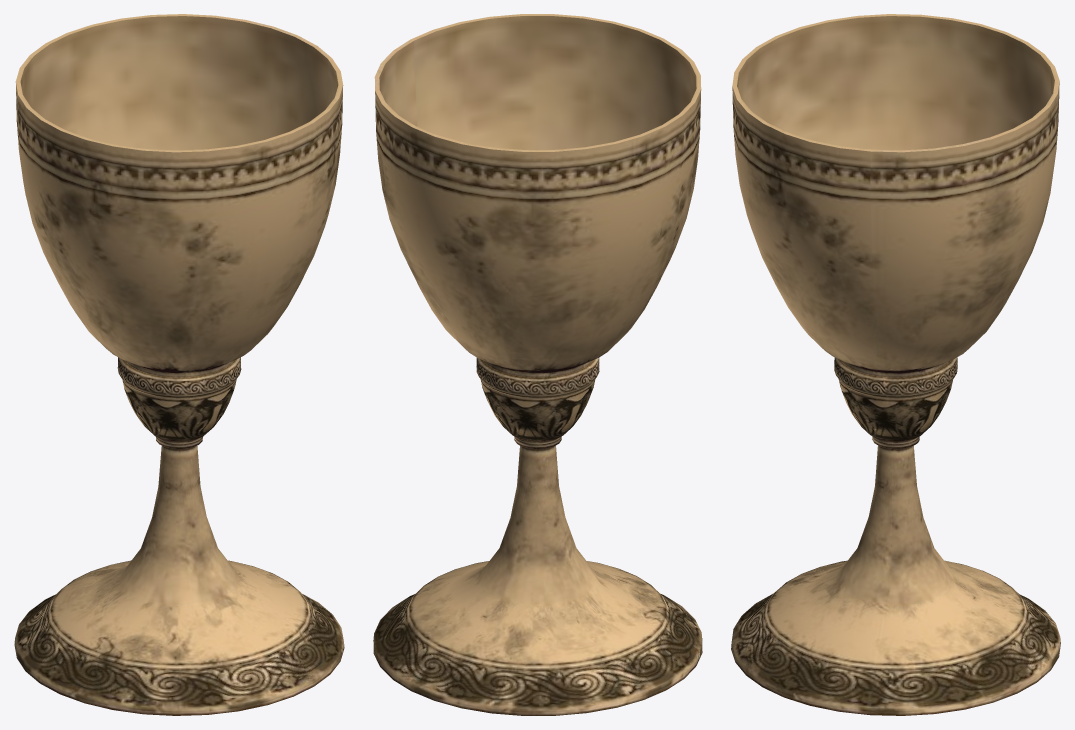
Rendered from brass_goblets__b.glb.
3 views of the same model, side by side, from view 1: azimuth 30°, elevation 25°; view 2: azimuth 150°, elevation 25°; view 3: azimuth 270°, elevation 25° (orthographic).
Parts seen in each view (by area): view 1: brass_goblets_02; view 2: brass_goblets_02; view 3: brass_goblets_02.
Part boxes in pixels (<box>): brass_goblets_02: <box>14,14,344,715</box>; brass_goblets_02: <box>373,14,702,715</box>; brass_goblets_02: <box>731,14,1060,715</box>.
Size of the model in its own units: 0.1411 by 0.2658 by 0.1411.
Materials: 1 (1 with a texture image).
